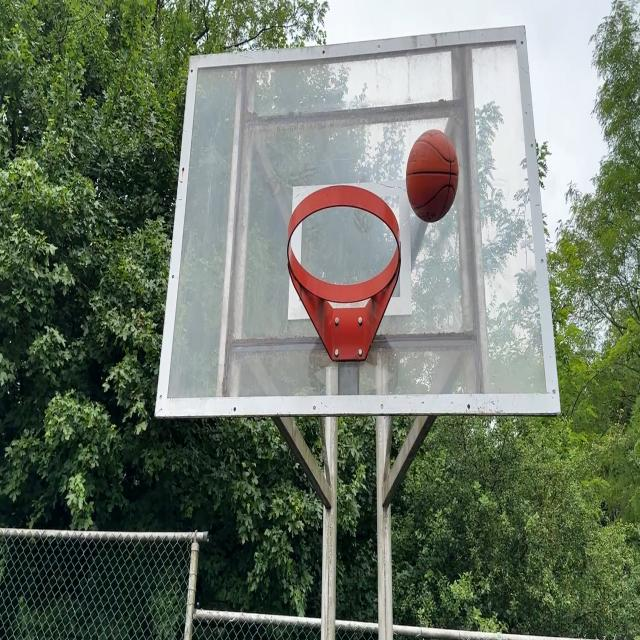Basketball: (407, 128, 459, 222)
